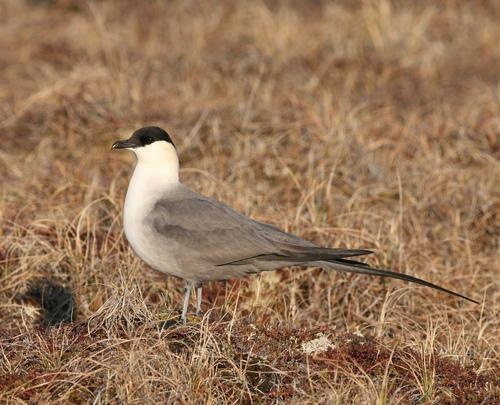bird: (113, 126, 479, 315)
